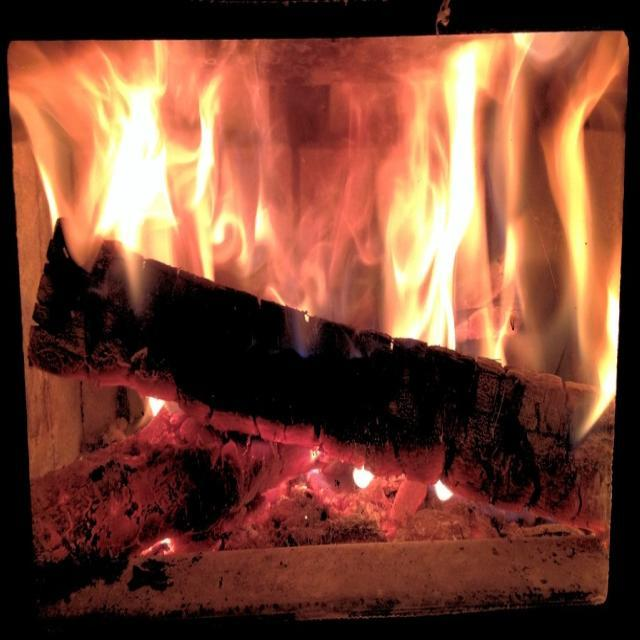Fire: (7, 26, 627, 441), (352, 467, 375, 489), (434, 478, 454, 502)
